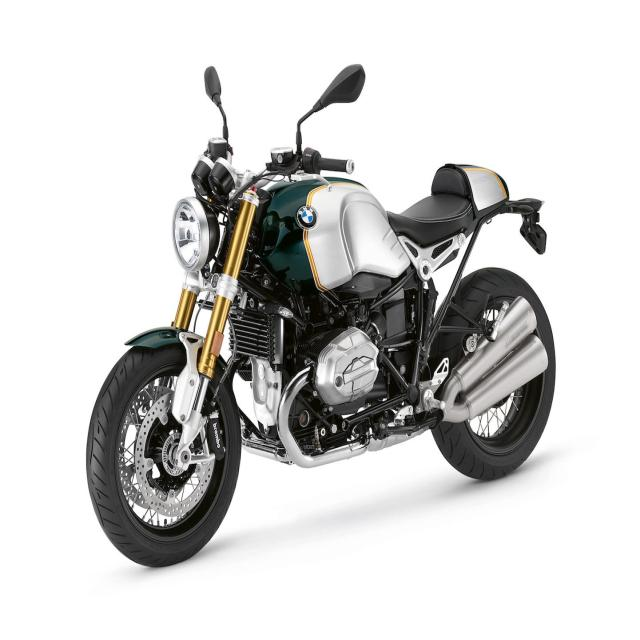Motorcycle: (85, 121, 556, 567)
